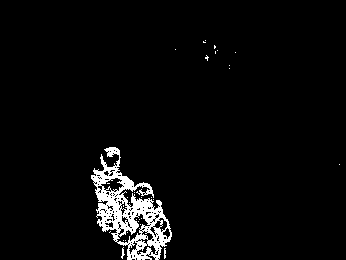person: (91, 146, 132, 254), (121, 182, 172, 260)
